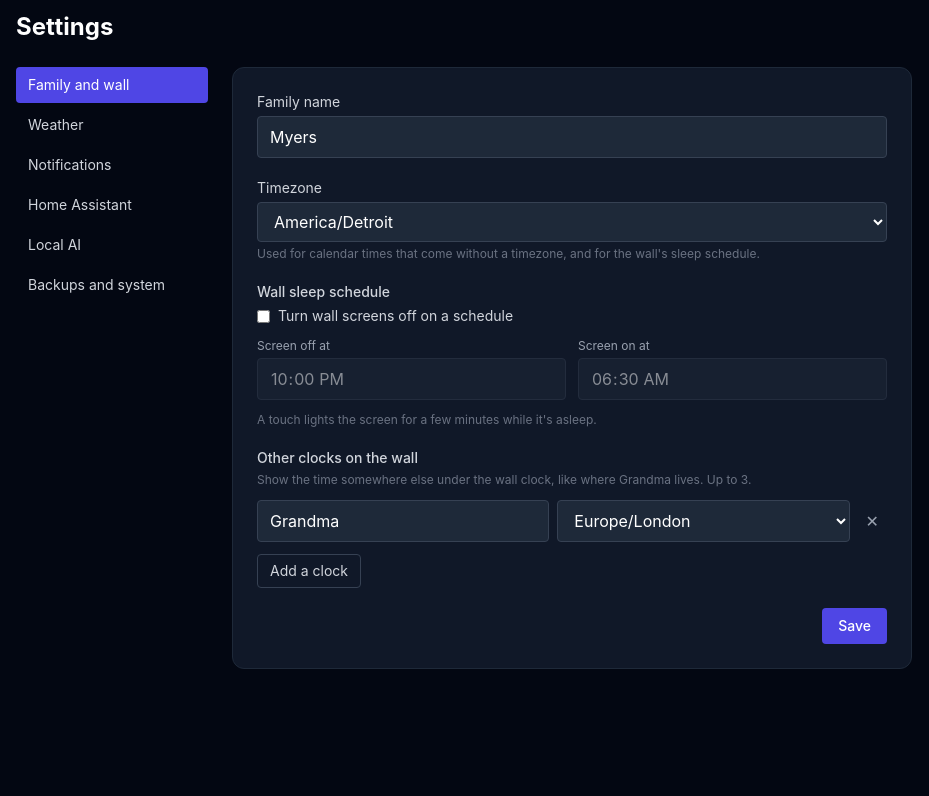
Scenario: FamilySettings › adds, names and removes extra wall clocks, up to three
Expected: the field named "Clock 1 name" holds "Grandma", [257,500,549,542]
Expected: the dropdown named "Clock 1 timezone" shows "Europe/London", [557,500,850,542]
Click the button "Add a clock" at (309, 571), box [257,554,361,588]
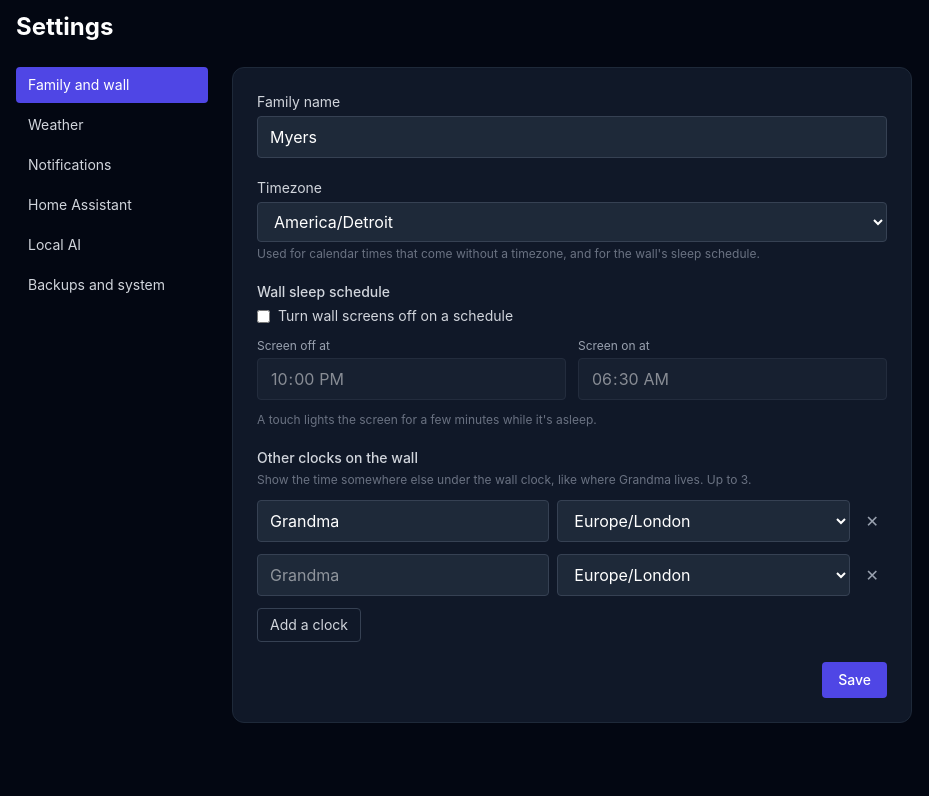
Type "Tokyo office" into the field named "Clock 2 name" at (403, 575), box [257,554,549,596]
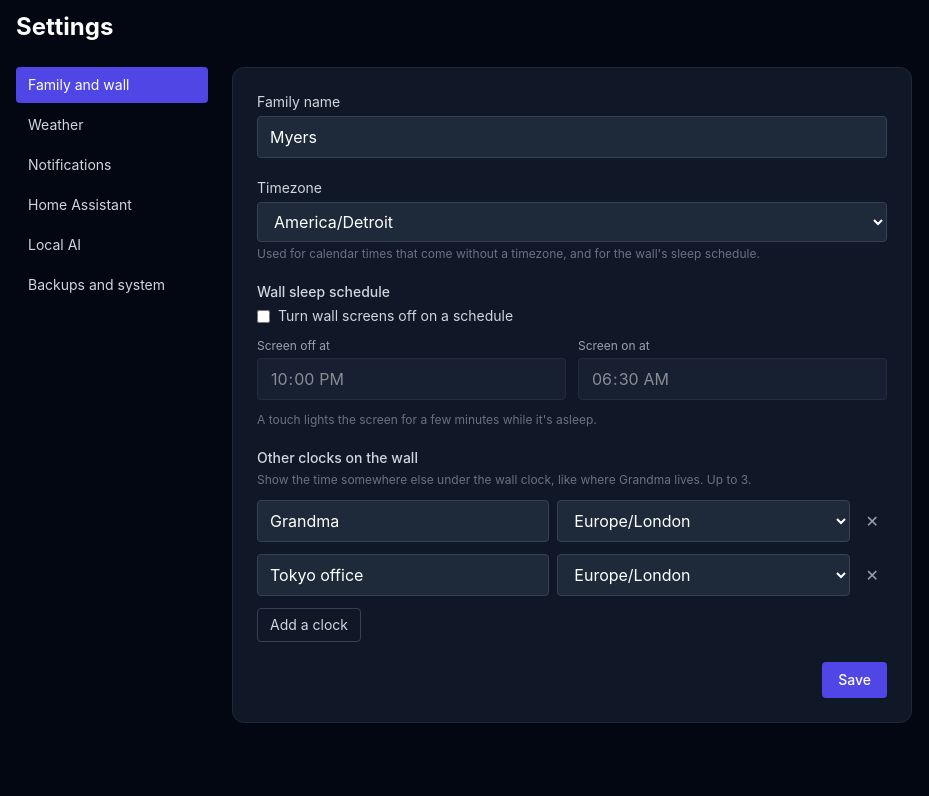
Select "Asia/Tokyo" in the dropdown named "Clock 2 timezone" at (703, 575), box [557,554,850,596]
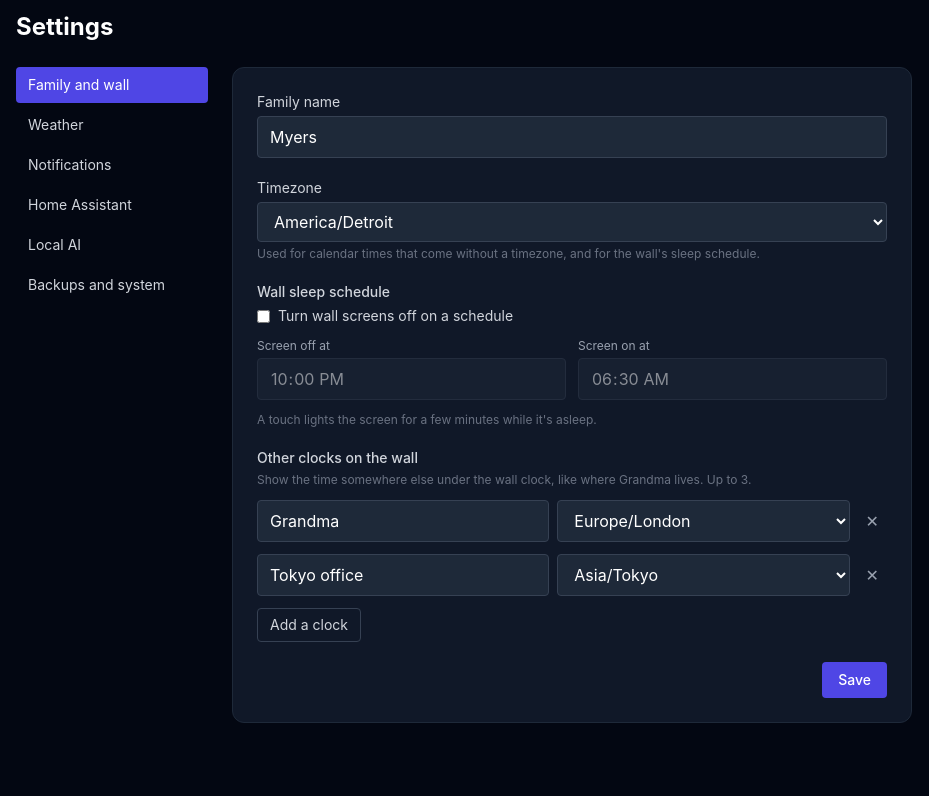
Click the button "Add a clock" at (309, 625), box [257,608,361,642]
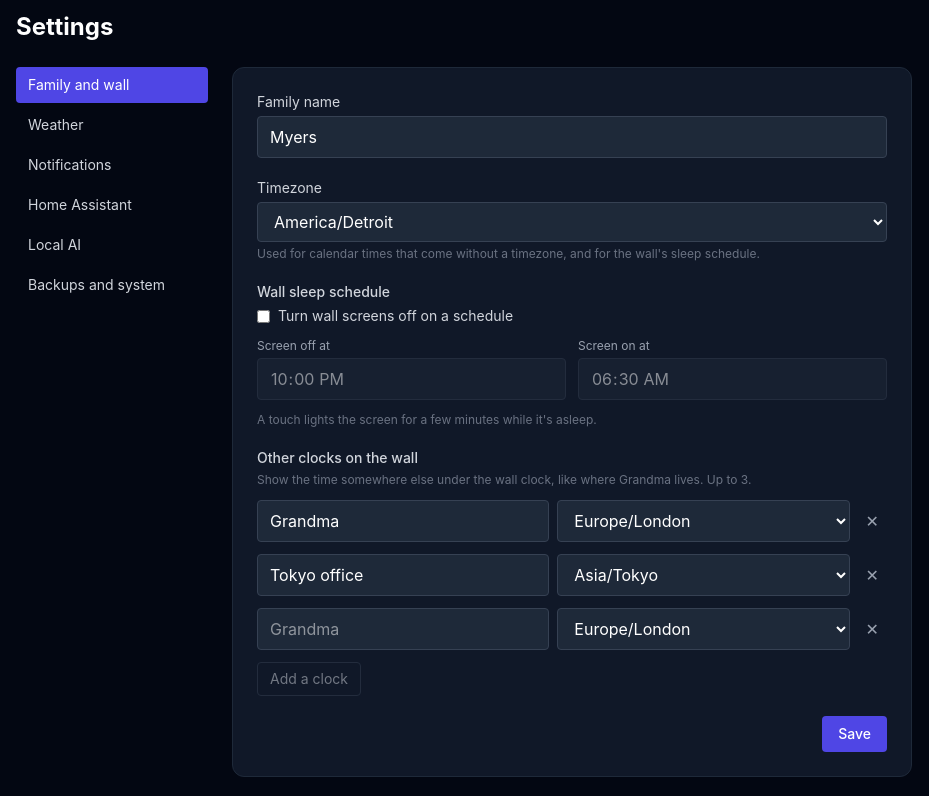
Result: the button "Add a clock" is disabled at [257,662,361,696]
Click the button named "Remove clock 3" at (872, 629), box [858,608,887,650]
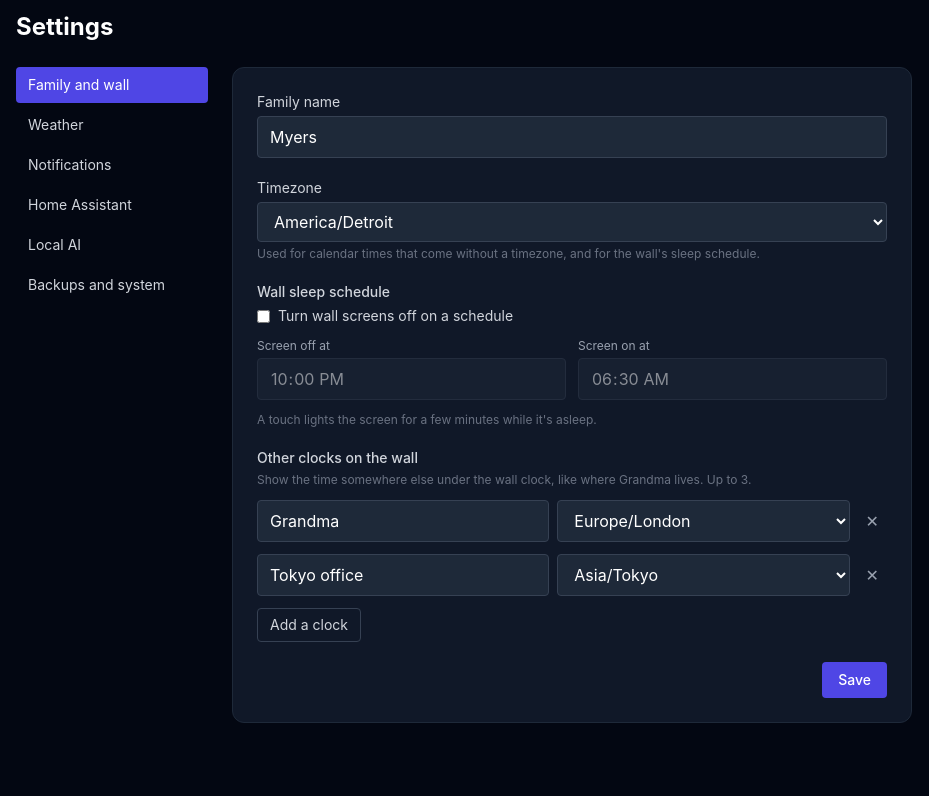
Click the button "Save" at (855, 680), box [822,662,887,698]
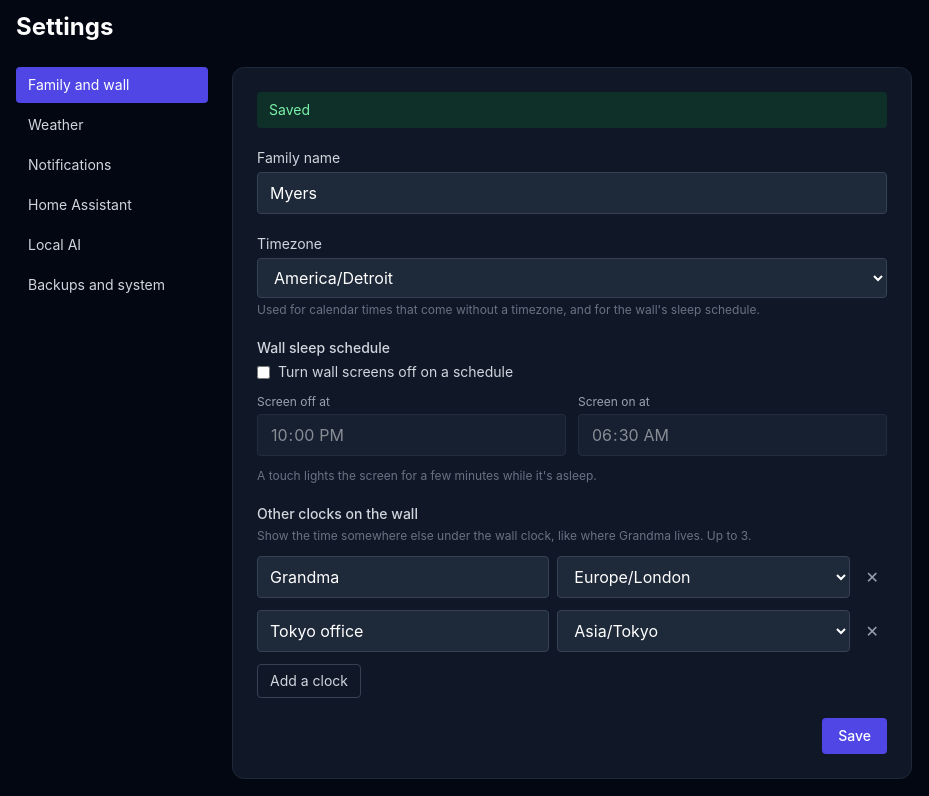
Result: the text "Saved" is shown at [257,92,887,128]
